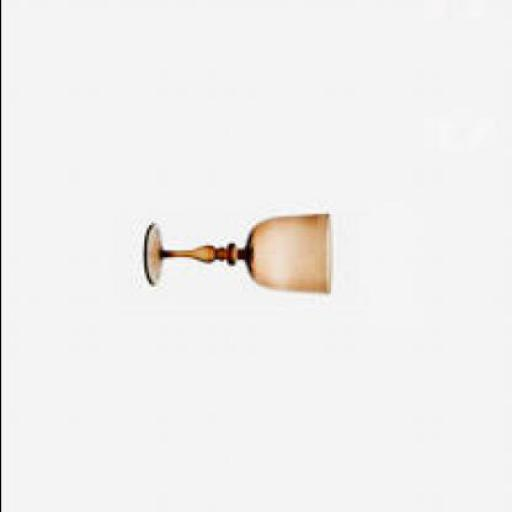glass: (145, 212, 335, 291)
